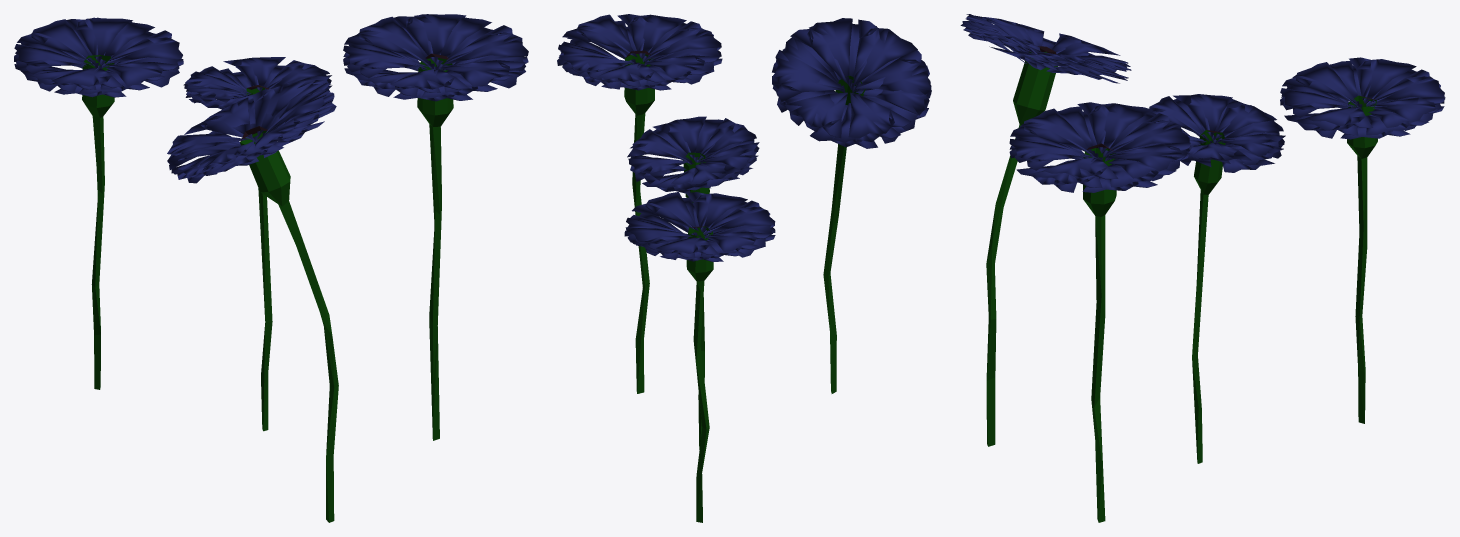
The model's file is SM_Cornflower_001_LOD2.fbx.
The picture shows the model from 3 angles, left to right: view 1: azimuth 30°, elevation 25°; view 2: azimuth 150°, elevation 25°; view 3: azimuth 270°, elevation 25°; orthographic projection. The views are drawn at different scales.
Parts seen in each view (by area): view 1: Circle; view 2: Circle; view 3: Circle.
Part boxes in pixels (bbox=[...]): Circle: bbox=[14, 14, 528, 522]; Circle: bbox=[557, 14, 931, 522]; Circle: bbox=[960, 14, 1445, 522].
Bounding box in the file's own units: 27.37 × 29.97 × 31.98.
